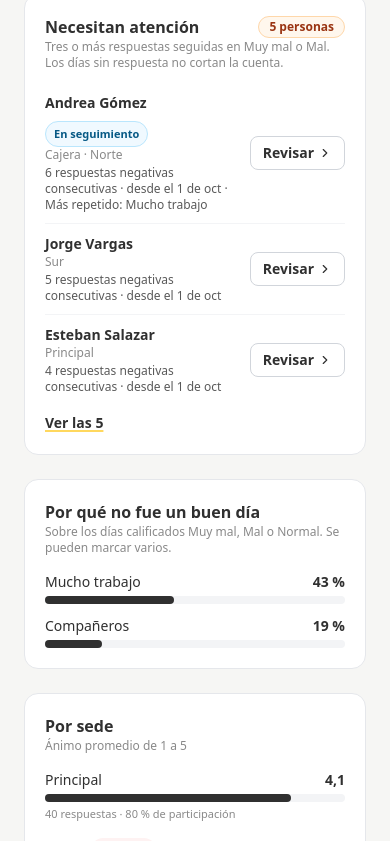
Test: resumen › una tarjeta compacta: cuántas personas, tres a la vista y el resto a un toque
The width and height of the screenshot is (390, 841).
(page scrolled)
Expected: the text "5 personas" is shown, [258, 16, 345, 38]
Expected: the number of buttons "Revisar" is 3, [250, 136, 345, 170]; [250, 252, 345, 286]; [250, 343, 345, 377]
Click the button "Ver las 5".
click(74, 423)  # box [45, 413, 103, 433]
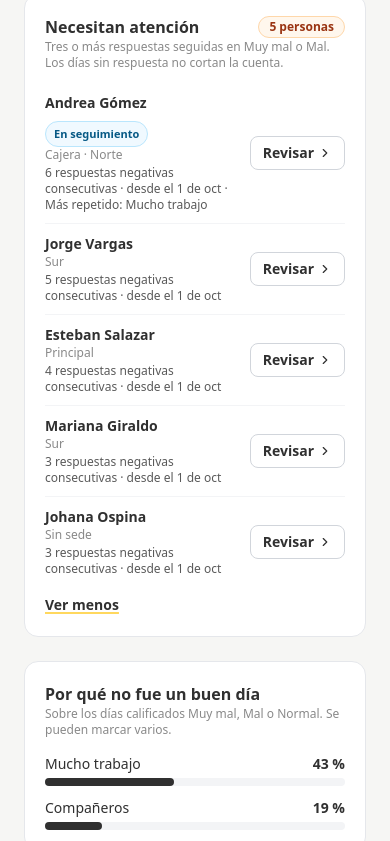
Expected: the number of buttons "Revisar" is 5, [250, 136, 345, 170]; [250, 252, 345, 286]; [250, 343, 345, 377]; [250, 434, 345, 468]; [250, 525, 345, 559]
Expected: the text "Mariana Giraldo" is shown, [45, 416, 158, 435]
